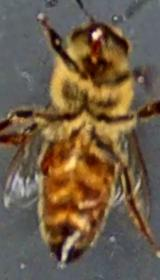varroa_mite: (36, 145, 55, 176)
